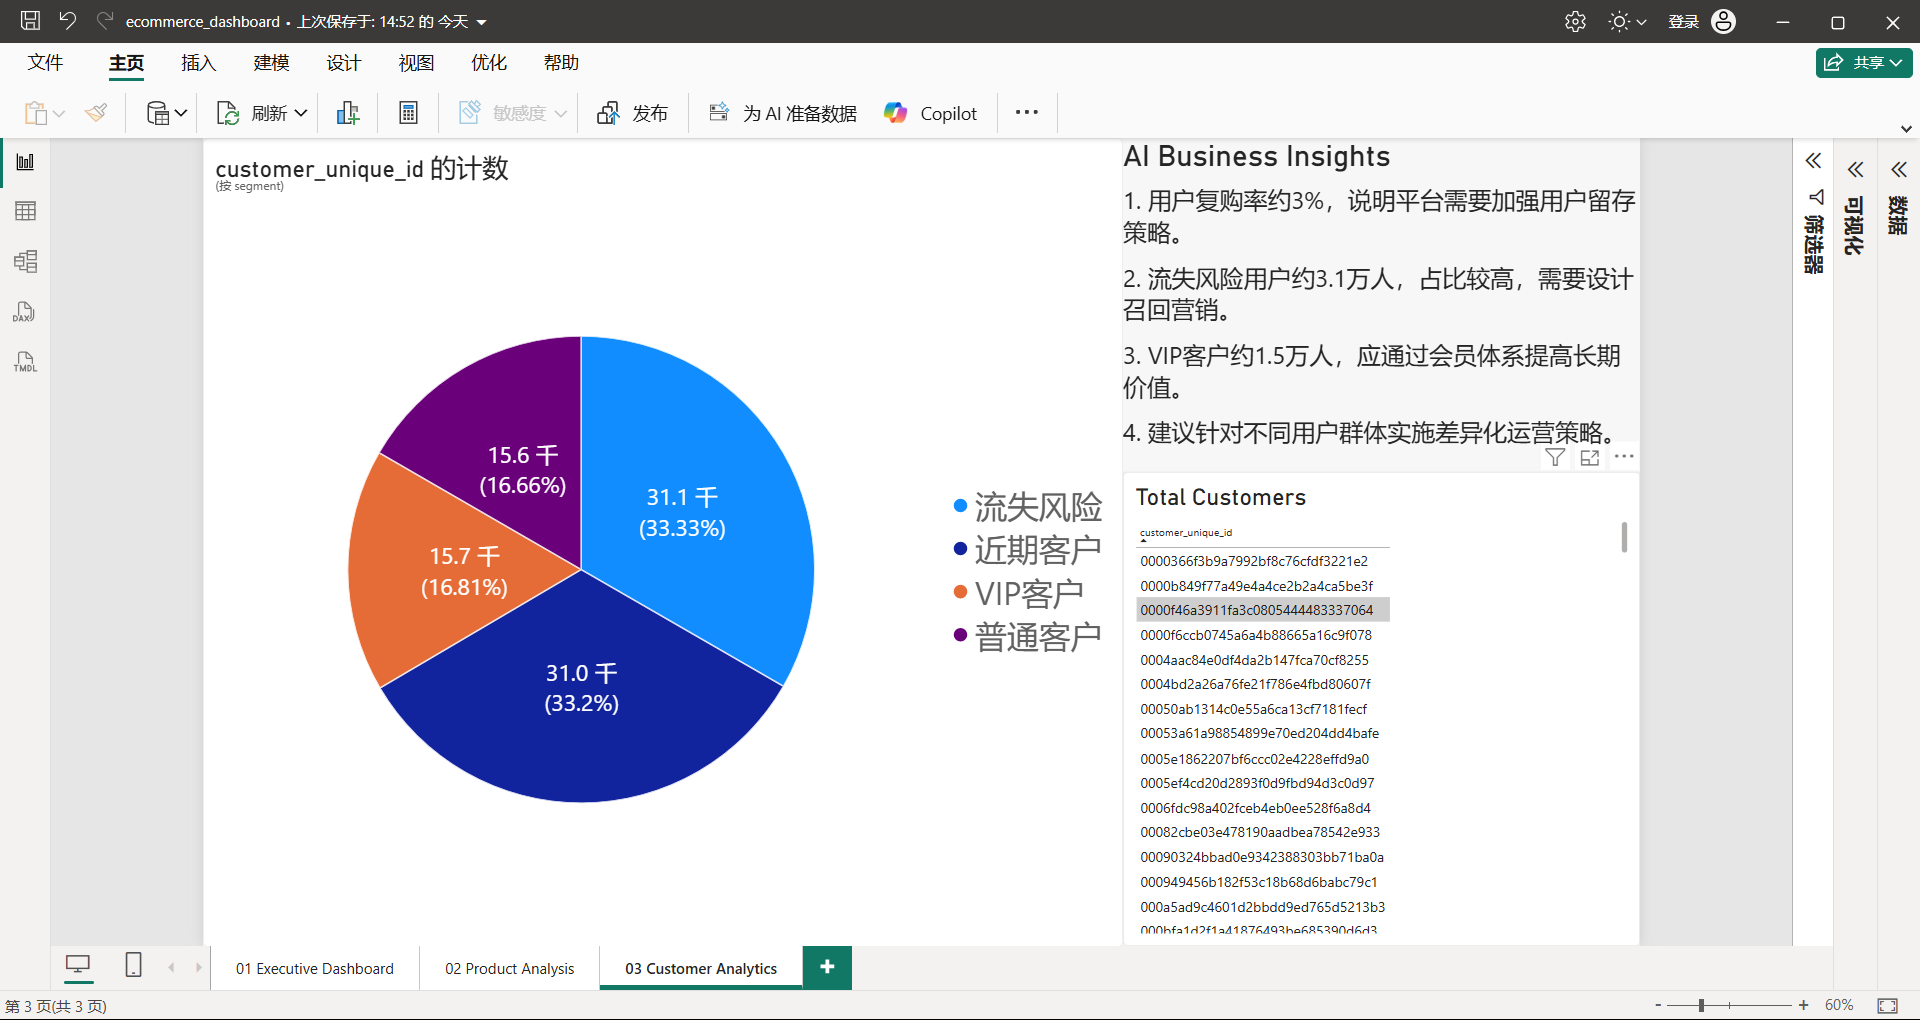

This screenshot's page, from the dashboard's own definition file:
{"tool":"powerbi","page":{"name":"03 Customer Analytics","canvas":[1920,1080],"ordinal":2},"visuals":[{"type":"pieChart","fields":{"Category":["customer_segments.segment"],"Y":["CountNonNull(customer_segments.customer_unique_id)"]},"box":[0,0,1228.8,1080.6],"z":0},{"type":"tableEx","title":"Total Customers","fields":{"Values":["customer_segments.customer_unique_id"]},"box":[1228.8,446.7,691.6,634],"z":1000},{"type":"textbox","title":"AI Business Insights","box":[1228.8,0,691.6,446.7],"z":2000}]}

Visuals, with their boxes on the page's 1920x1080 design canvas (x1, y1, x2, y2). These are canvas units, not pixel positions in the 1920x1020 screenshot, which may show the page scaled, cropped or inside an application window:
pieChart - customer_segments.segment x CountNonNull(customer_segments.customer_unique_id): box=[0, 0, 1229, 1081]
"Total Customers" tableEx: box=[1229, 447, 1920, 1081]
"AI Business Insights" textbox: box=[1229, 0, 1920, 447]
